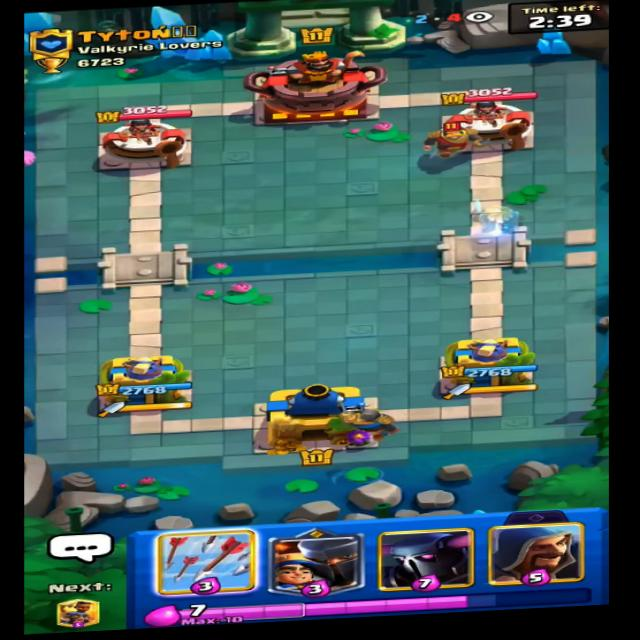Knight: (418, 118, 481, 159)
